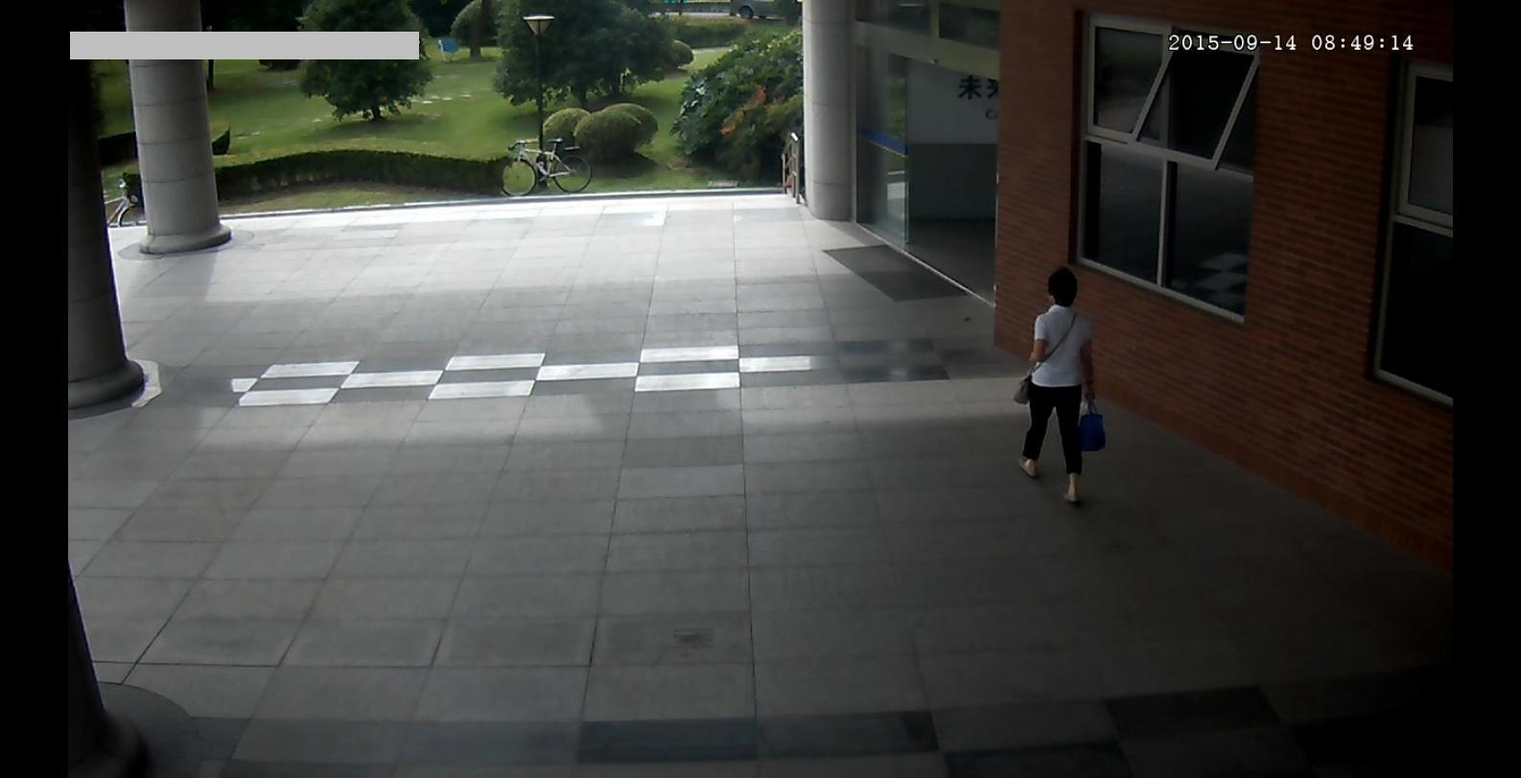person: (1008, 261, 1119, 514)
